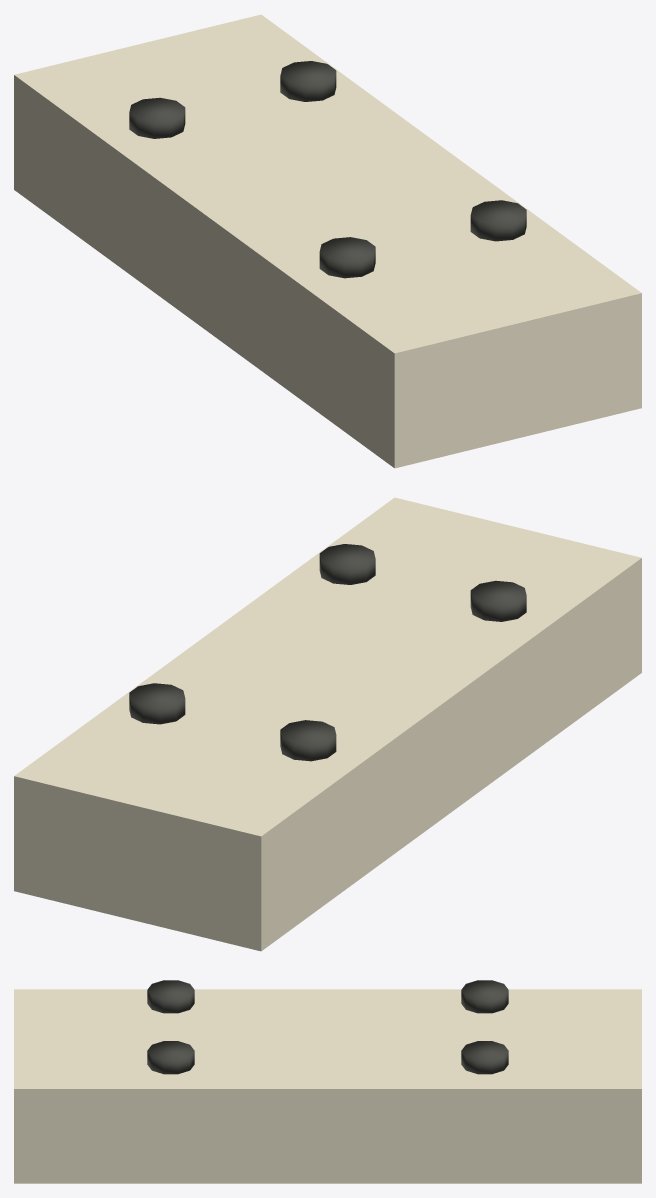
File: okey_tasi.glb
3 renders of one model, top to bottom at view 1: azimuth 30°, elevation 25°; view 2: azimuth 150°, elevation 25°; view 3: azimuth 270°, elevation 25°, orthographic. The views are drawn at different scales.
Visible parts, largest first — view 1: OkeyTaşı, Nokta, Nokta.001, Nokta.002, Nokta.003; view 2: OkeyTaşı, Nokta, Nokta.001, Nokta.003, Nokta.002; view 3: OkeyTaşı, Nokta, Nokta.001, Nokta.002, Nokta.003.
Boxes of the visible parts, box(x1,y1,x2,y2) form: OkeyTaşı: box(14, 14, 641, 468); Nokta: box(319, 237, 375, 278); Nokta.001: box(129, 97, 185, 138); Nokta.002: box(470, 200, 526, 241); Nokta.003: box(280, 61, 336, 101); OkeyTaşı: box(14, 497, 641, 951); Nokta: box(470, 580, 526, 621); Nokta.001: box(280, 720, 336, 761); Nokta.003: box(129, 683, 185, 724); Nokta.002: box(319, 544, 375, 584); OkeyTaşı: box(14, 989, 641, 1183); Nokta: box(147, 980, 194, 1013); Nokta.001: box(461, 980, 508, 1013); Nokta.002: box(147, 1041, 194, 1074); Nokta.003: box(461, 1041, 508, 1074).
Bounding box in the file's own units: 0.18 × 0.096 × 0.48.
